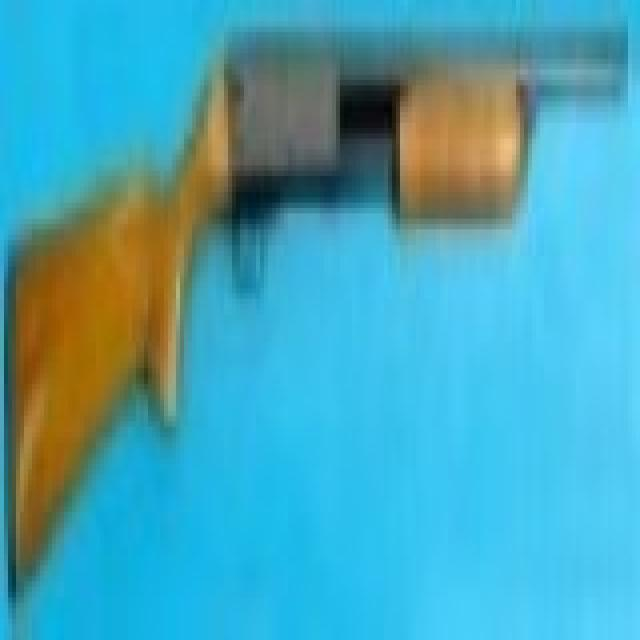Gun: (4, 4, 635, 593)
